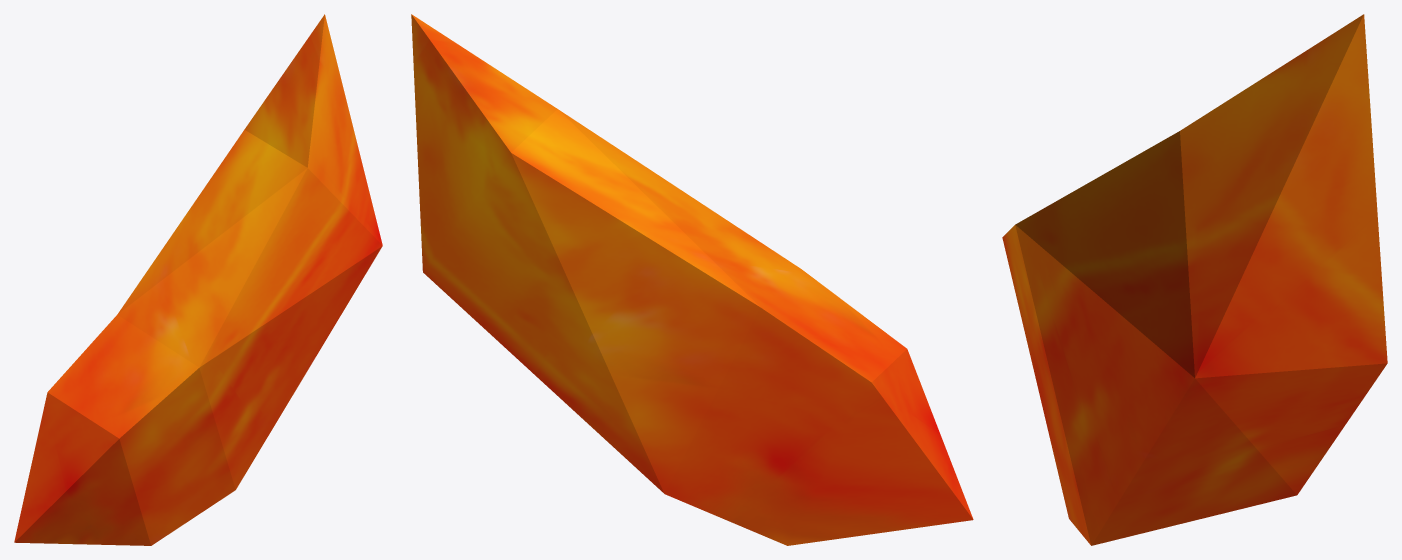
The model's file is Island_2_Tree_1_Leaf_6.gltf.
3 views of the same model, side by side, from view 1: azimuth 30°, elevation 25°; view 2: azimuth 150°, elevation 25°; view 3: azimuth 270°, elevation 25° (orthographic). The views are drawn at different scales.
Visible parts, largest first — view 1: Island_2_Tree_1_Leaf_6; view 2: Island_2_Tree_1_Leaf_6; view 3: Island_2_Tree_1_Leaf_6.
Boxes of the visible parts, bbox=[...] form: Island_2_Tree_1_Leaf_6: bbox=[14, 14, 382, 545]; Island_2_Tree_1_Leaf_6: bbox=[411, 14, 973, 545]; Island_2_Tree_1_Leaf_6: bbox=[1002, 14, 1387, 545].
Bounding box in the file's own units: 0.9955 × 0.978 × 0.4693.
1 material, 1 textured.
